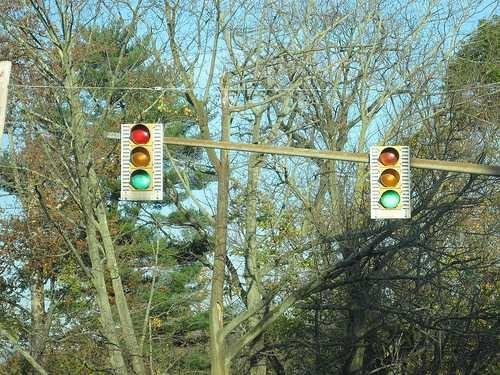green: (379, 186, 406, 215), (128, 168, 152, 190)
